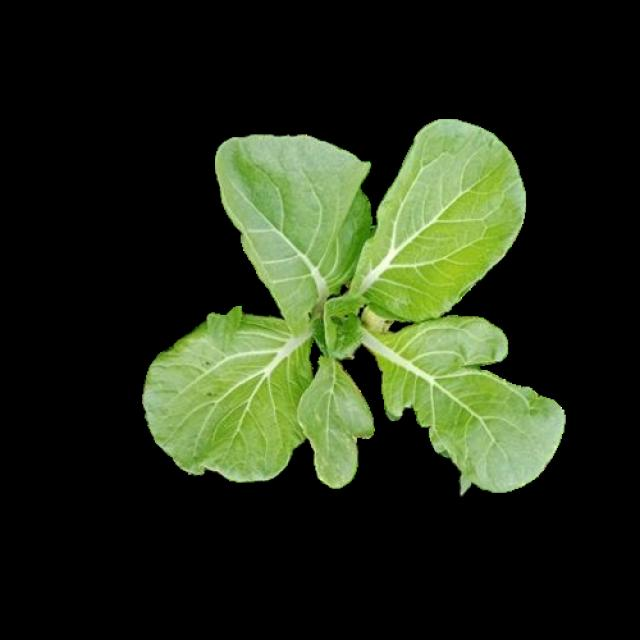mature: (146, 120, 562, 493)
unhealthy: (366, 319, 559, 493)
